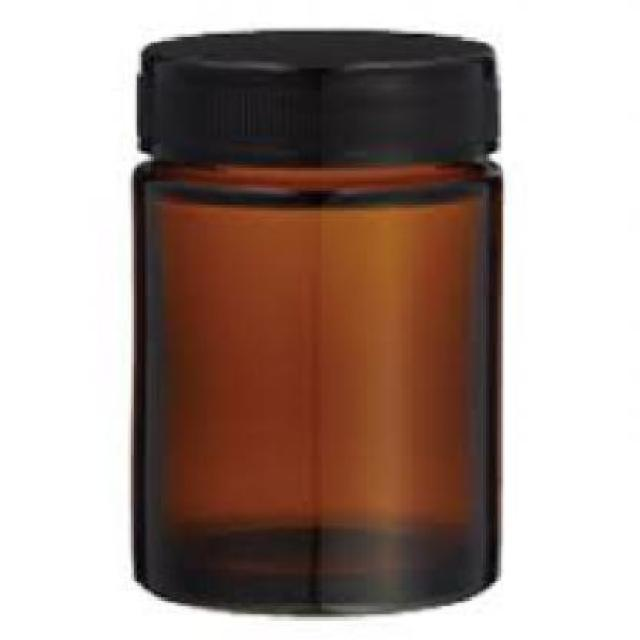GLASS: (137, 153, 506, 618)
PLASTIC: (137, 29, 500, 156)
